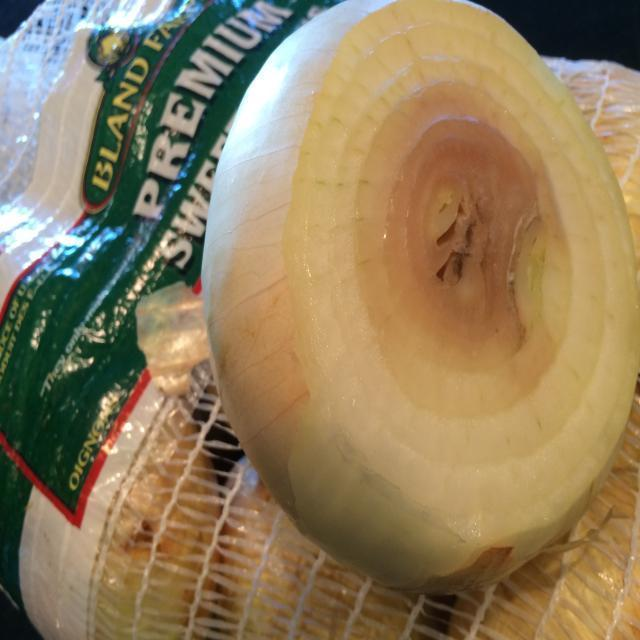Onion: (203, 0, 640, 593)
